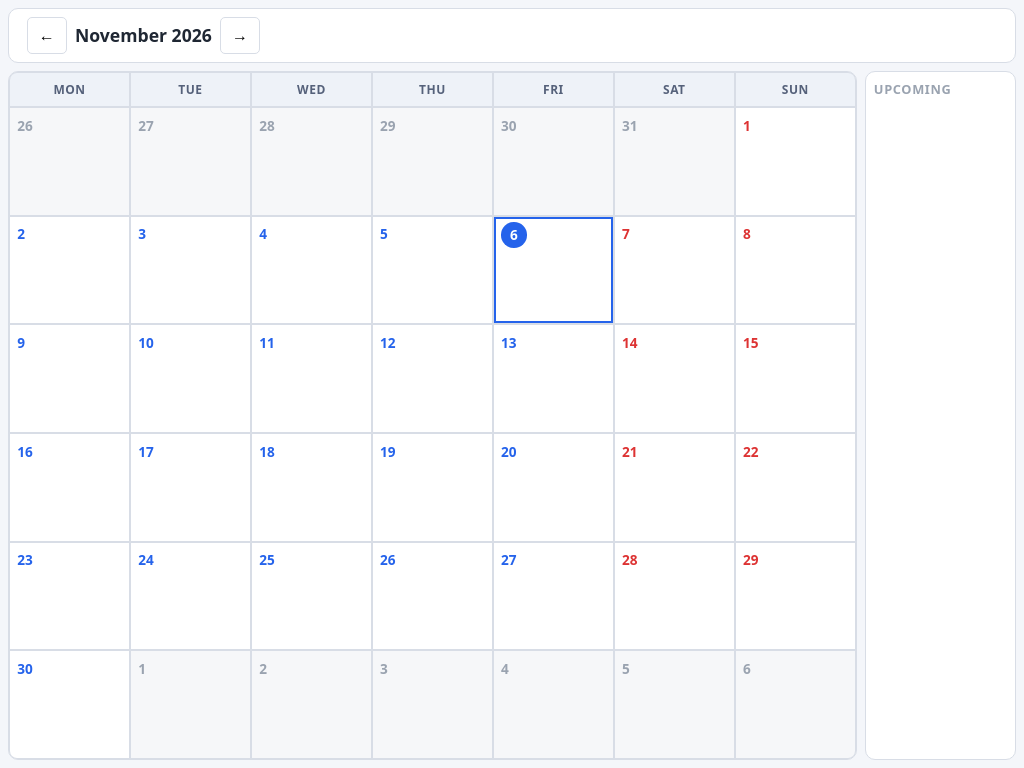
Test: Calendar › shows field errors from the API and keeps the form open
Click the 1st cell "5" at (432, 270), box [373,217,492,323]
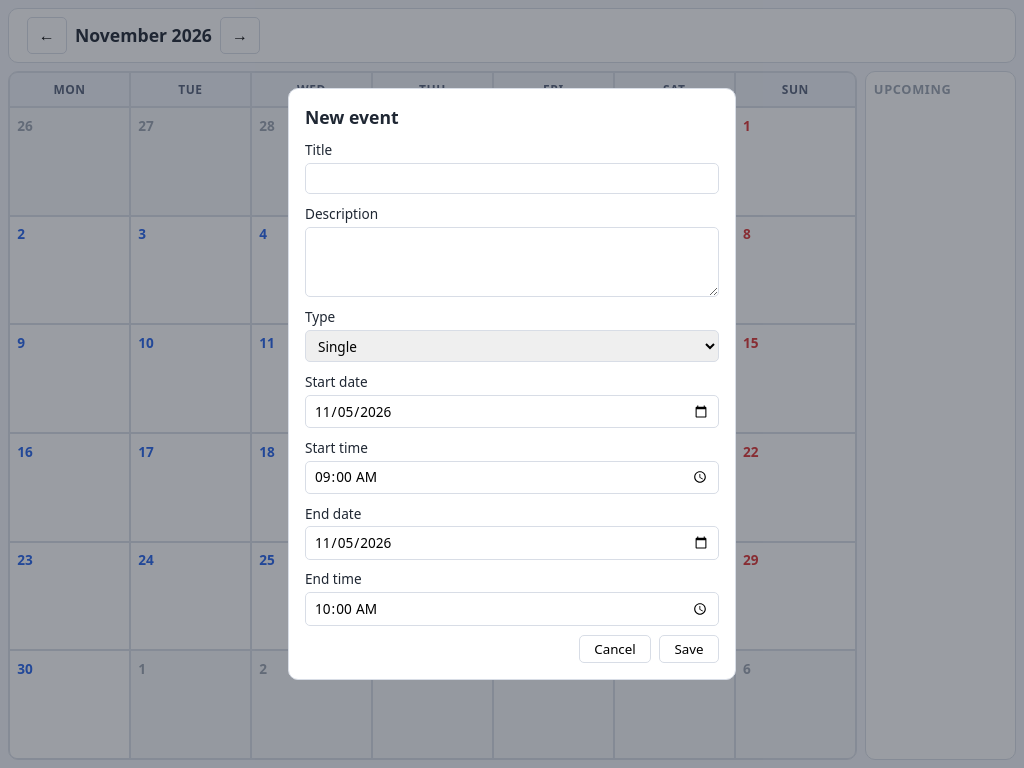
Type "x" into the field labelled "Title" at (512, 178), box [305,163,719,194]
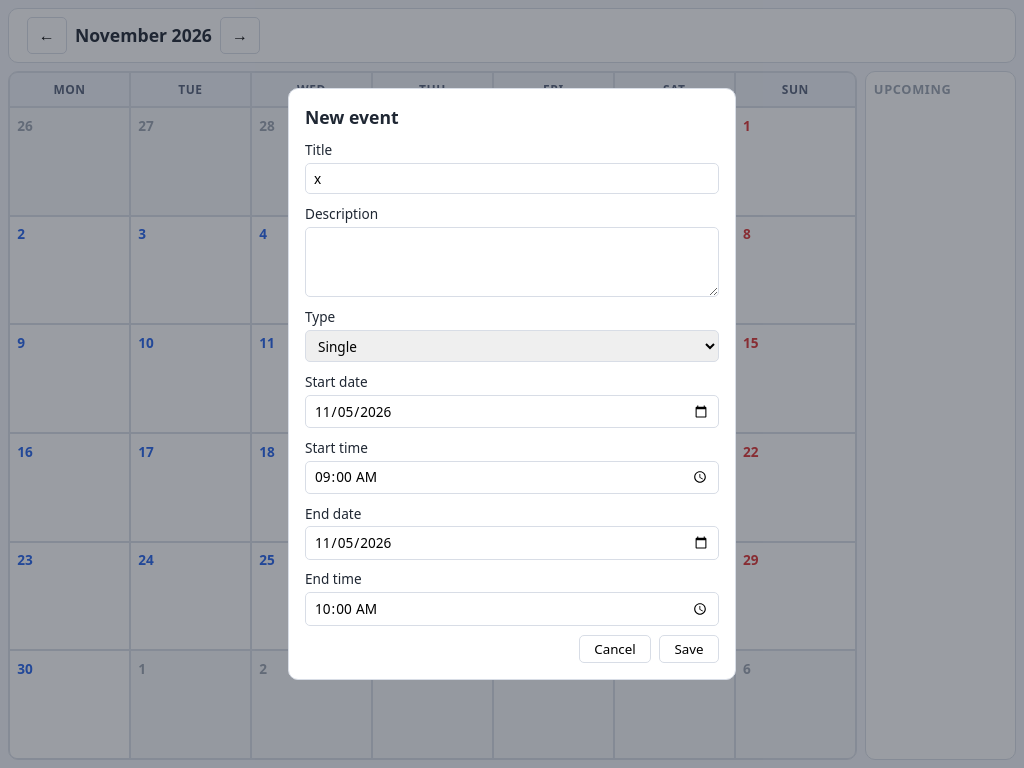
Click the button "Save" at (689, 649), box [659,635,719,663]
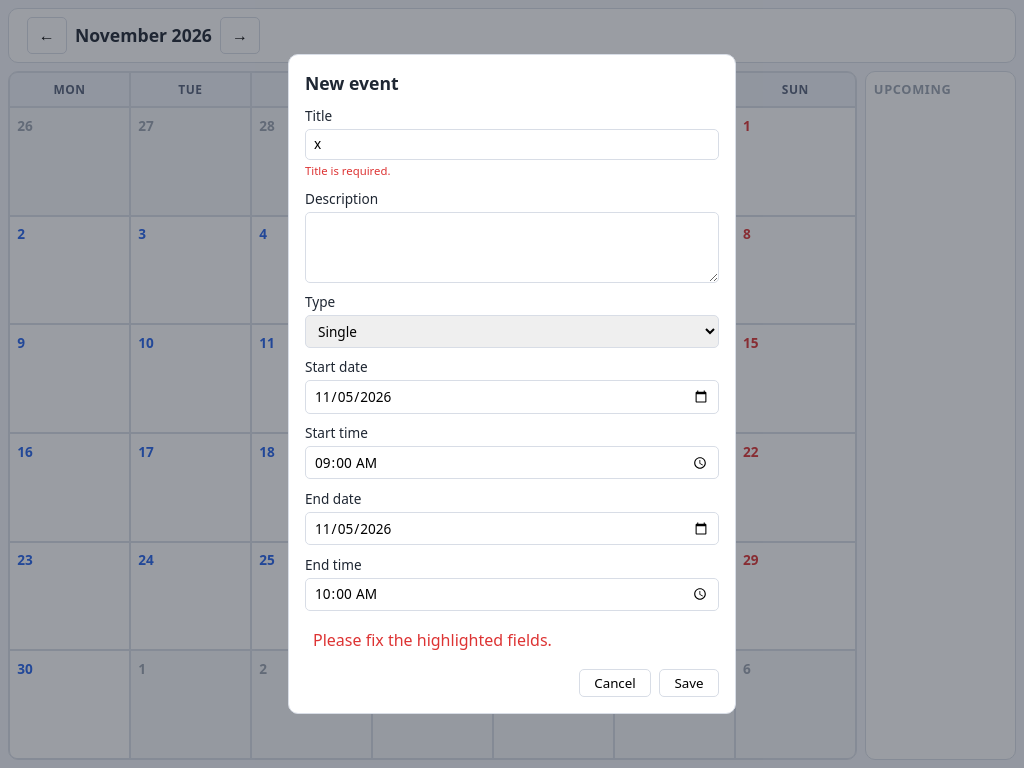
Result: the dialog is shown at [288,54,736,714]
Result: the text "Title is required." is shown at [305,163,390,178]
